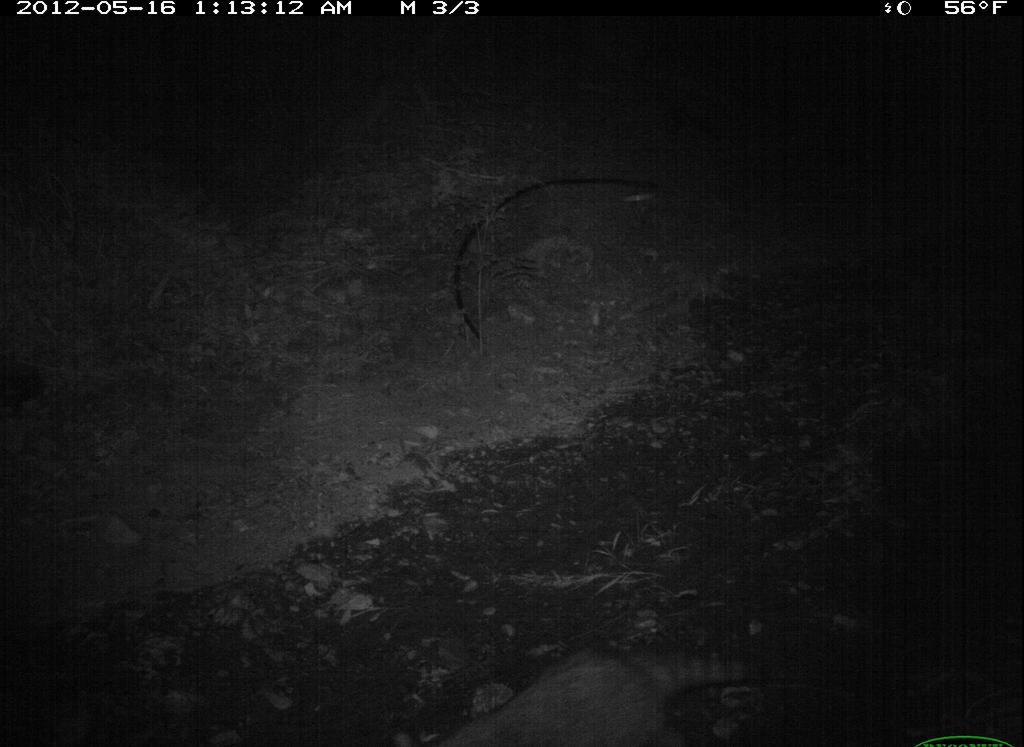raccoon: (392, 633, 780, 747)
